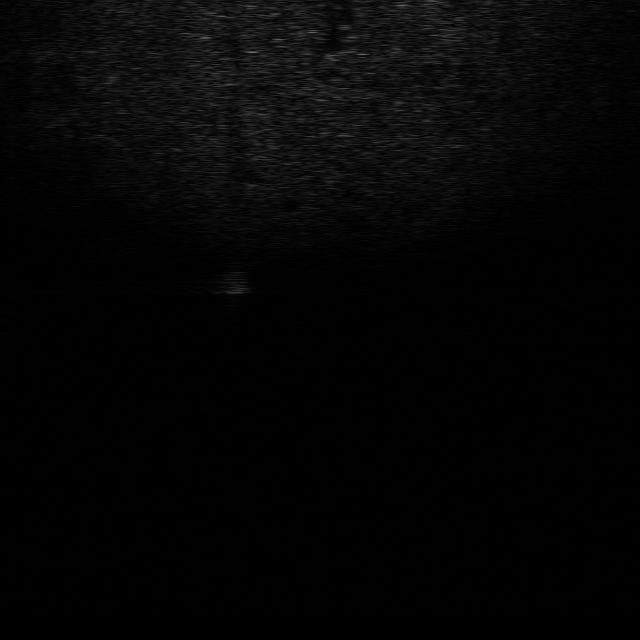human body: (211, 260, 251, 316)
